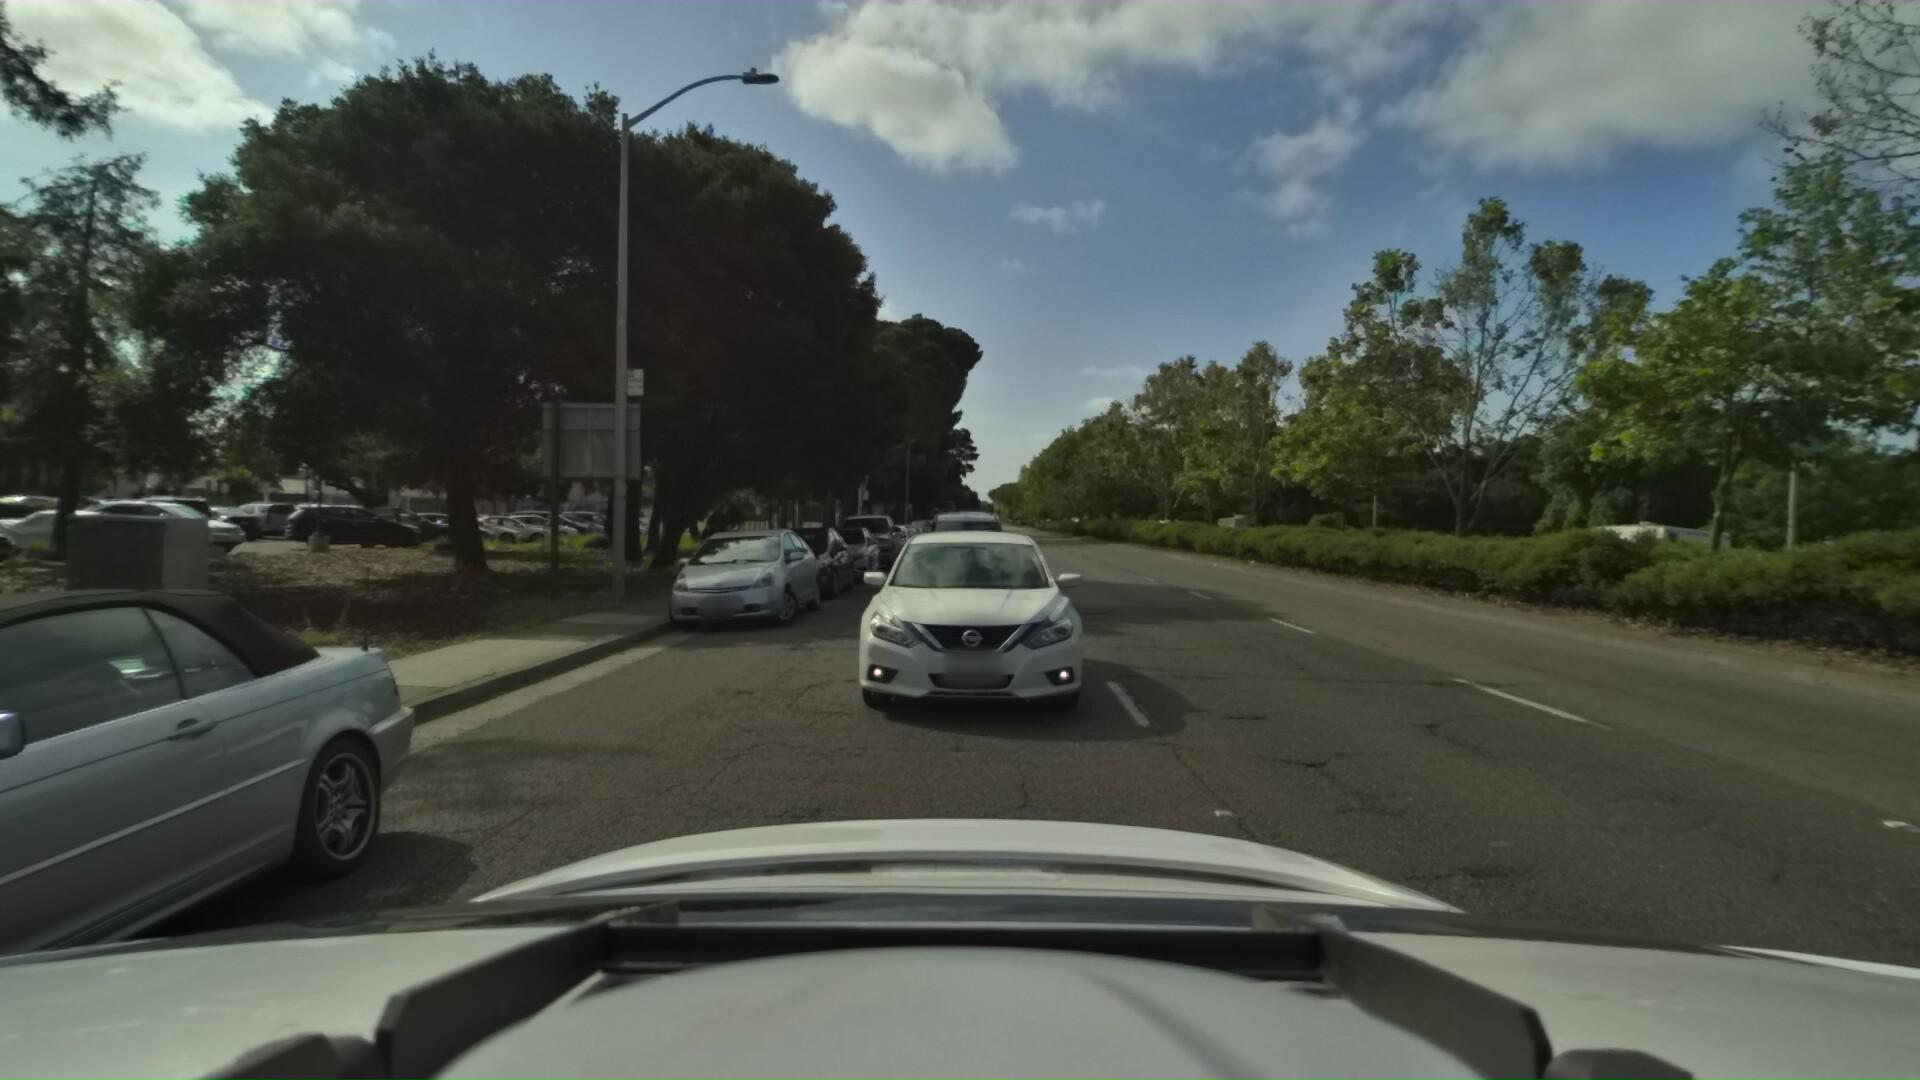bicycle: (676, 498, 746, 597)
car: (0, 549, 483, 1080), (839, 522, 1104, 752), (659, 527, 825, 640), (738, 524, 857, 607), (915, 495, 1006, 597), (790, 524, 884, 587), (823, 509, 899, 576), (924, 516, 981, 567), (852, 520, 907, 564), (862, 520, 915, 559)
other_vehicle: (1553, 516, 1727, 585)
